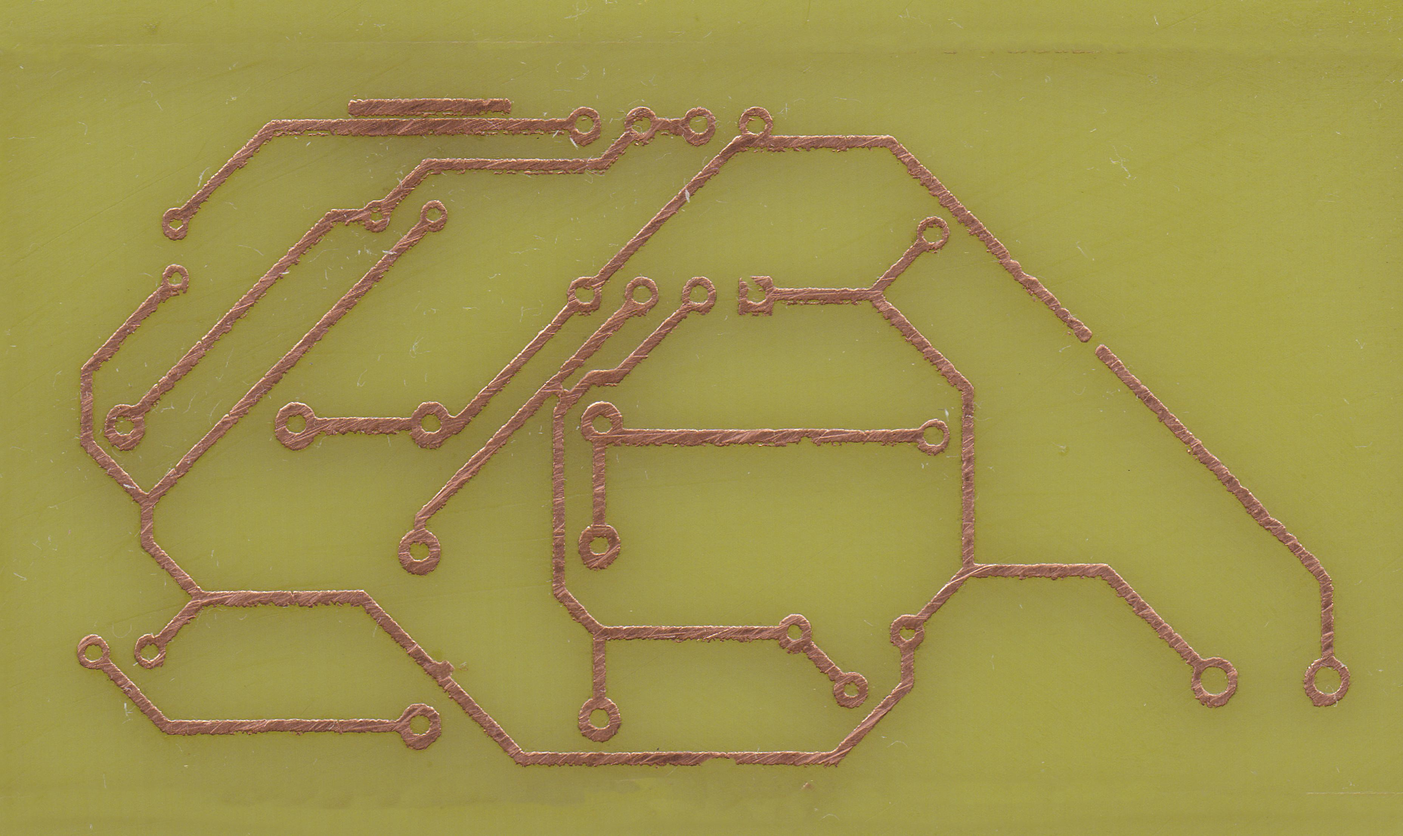missing_hole: (733, 275, 779, 319)
mouse_bite: (695, 747, 742, 771), (791, 424, 818, 452)
open_circuit: (1077, 328, 1111, 360)
short: (545, 378, 582, 408)
spur: (430, 658, 459, 684)
spurious_copper: (343, 94, 516, 117)
